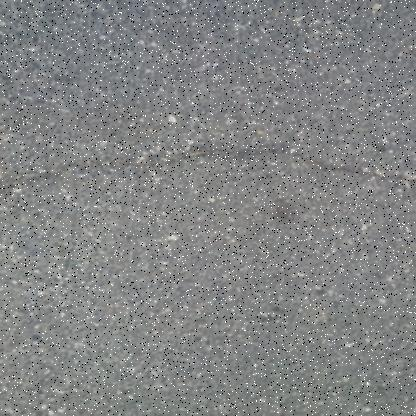Cracks: (0, 133, 416, 201)
